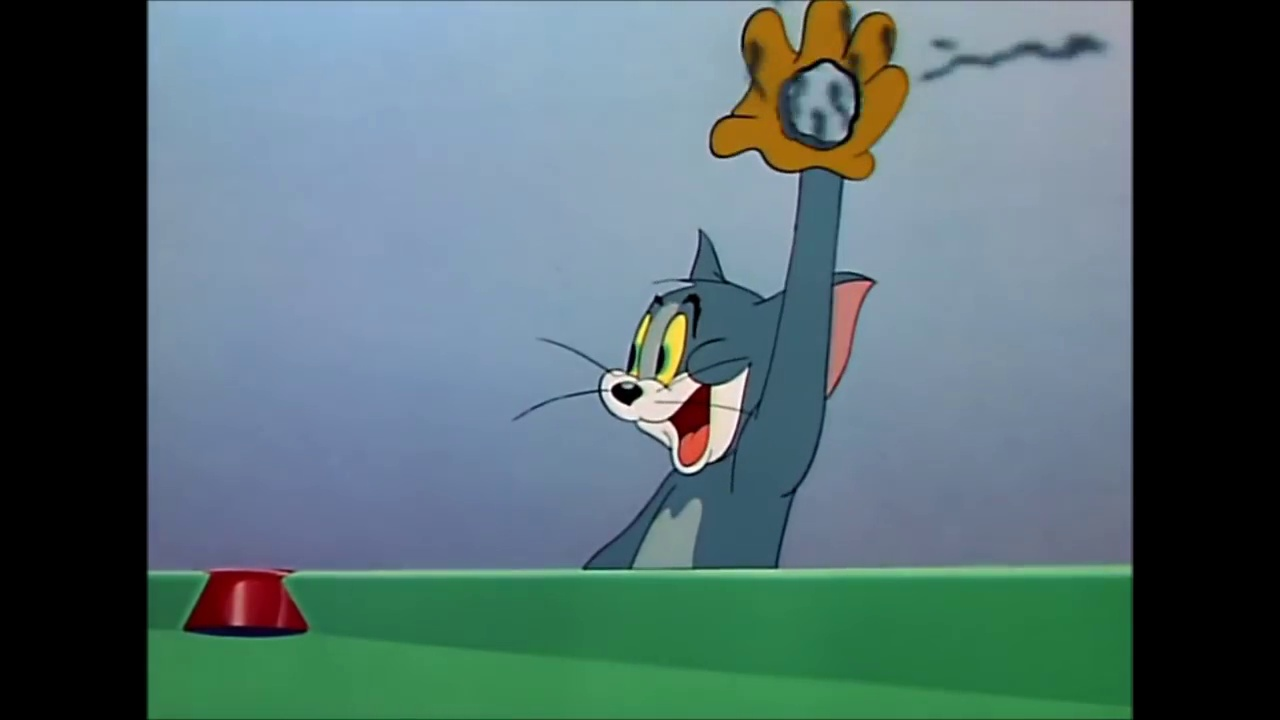happy: (622, 286, 716, 479)
